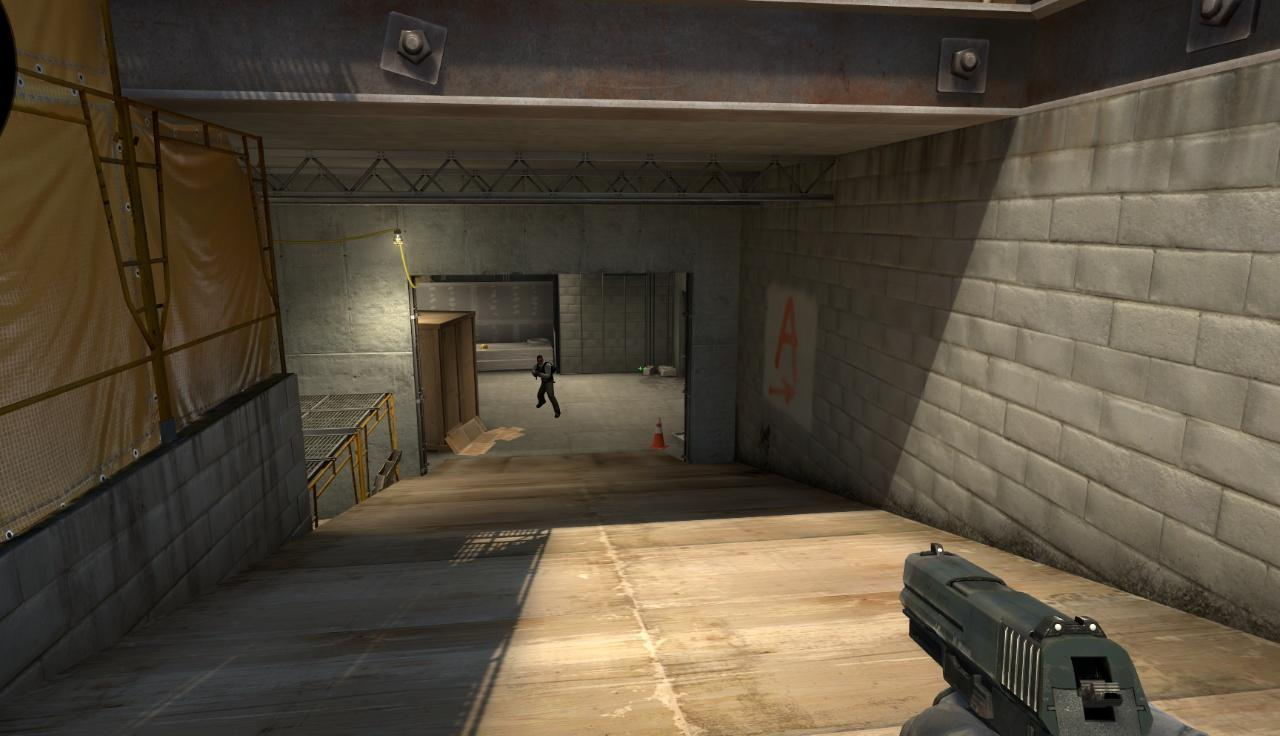pistol: (900, 540, 1157, 732)
tt: (535, 355, 560, 417)
tthead: (536, 356, 544, 365)
